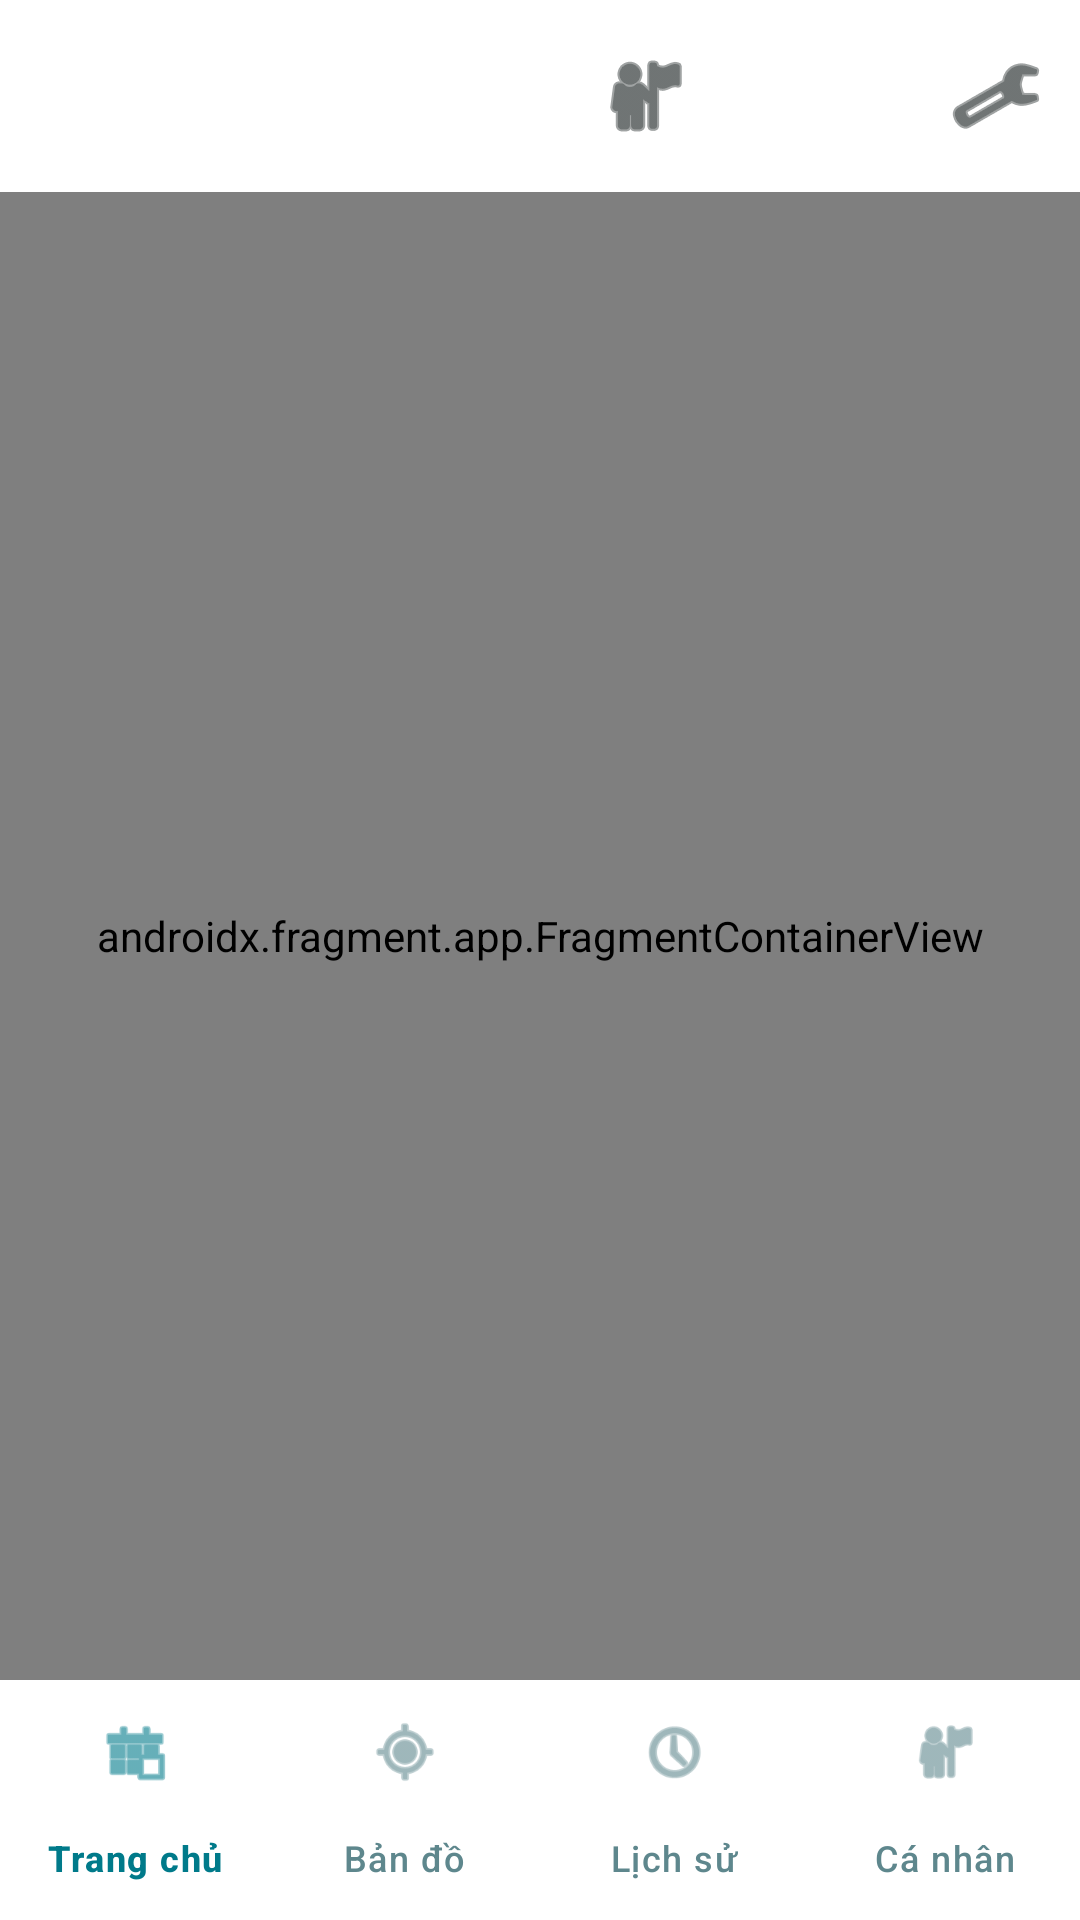

Where to tap for icons on this 1080x1920 app screen, as [x,y]:
Cài đặt: [996,96]
Tài khoản: [646,96]
